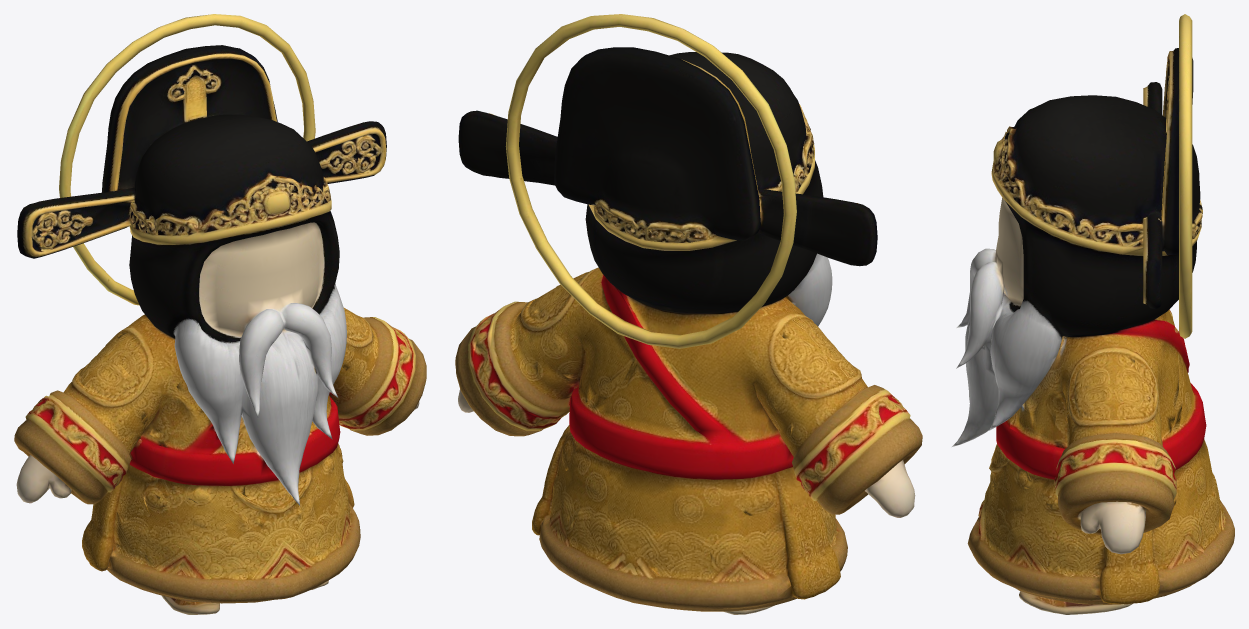
File: tudi.glb
3 views of the same model, side by side, from view 1: azimuth 30°, elevation 25°; view 2: azimuth 150°, elevation 25°; view 3: azimuth 270°, elevation 25° (orthographic). The views are drawn at different scales.
Visible parts, largest first — view 1: tripo_node_eed977e6-d042-4a78-95d3-eb01db741669; view 2: tripo_node_eed977e6-d042-4a78-95d3-eb01db741669; view 3: tripo_node_eed977e6-d042-4a78-95d3-eb01db741669.
Boxes of the visible parts, x1,y1,x2,y2 form: tripo_node_eed977e6-d042-4a78-95d3-eb01db741669: [14, 14, 426, 614]; tripo_node_eed977e6-d042-4a78-95d3-eb01db741669: [455, 14, 922, 614]; tripo_node_eed977e6-d042-4a78-95d3-eb01db741669: [951, 14, 1234, 614].
Bounding box in the file's own units: 0.7597 × 0.9779 × 0.4574.
Materials: 1 (1 with a texture image).
